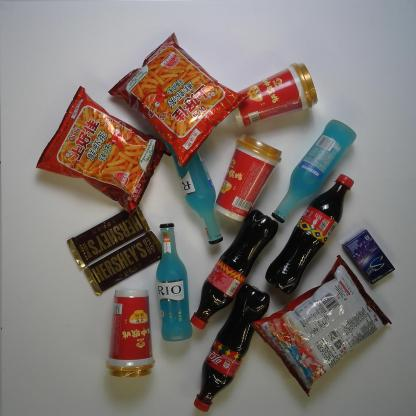Alcohol: (271, 120, 359, 226), (168, 140, 226, 246), (155, 219, 195, 342)
Chocolate: (66, 208, 150, 270), (87, 229, 163, 296)
Drink: (263, 176, 356, 296), (190, 209, 280, 330), (191, 285, 276, 411)
Gum: (334, 228, 397, 284)
Instant Drink: (230, 50, 322, 130), (217, 129, 281, 222), (107, 287, 158, 381)
Puffed Food: (252, 254, 390, 395), (109, 34, 245, 163), (37, 85, 166, 209)
